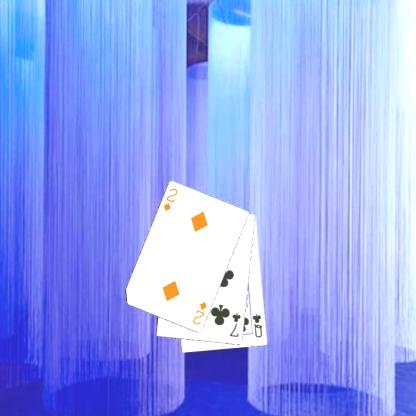2D: (190, 299, 208, 327), (161, 185, 179, 213)
7C: (227, 311, 242, 339)
QC: (250, 312, 264, 340)
